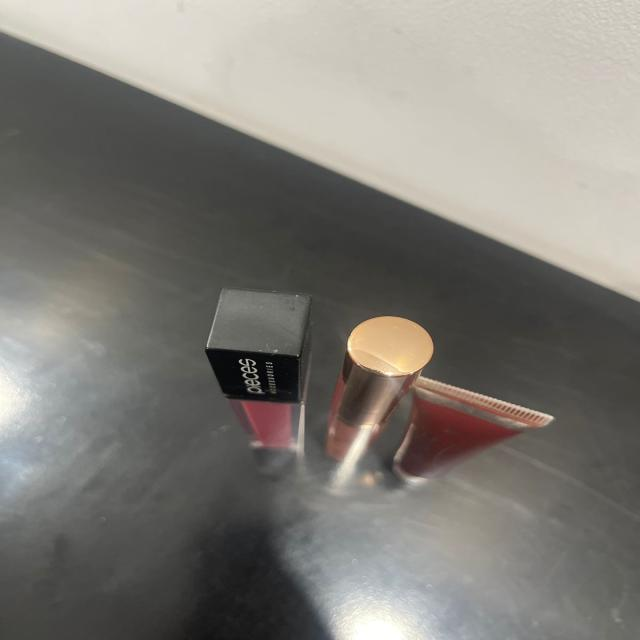lip gloss: (200, 271, 318, 475), (319, 307, 449, 475)
lotion: (400, 373, 566, 471)
